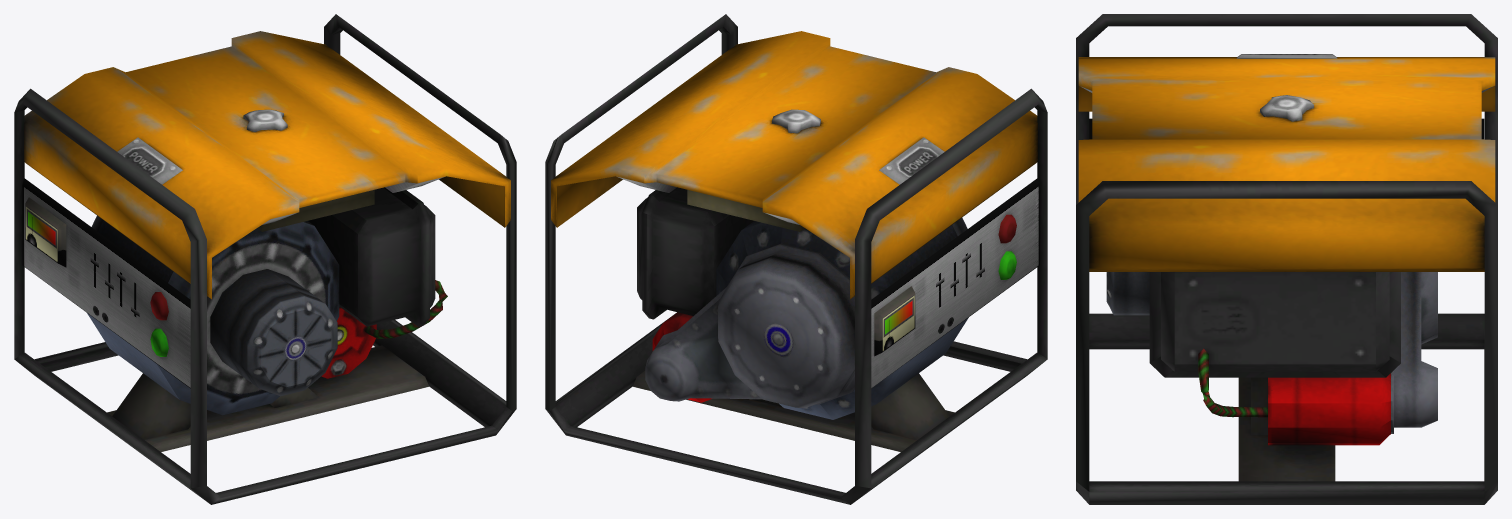
File: portable_pg.glb
3 views of the same model, side by side, from view 1: azimuth 30°, elevation 25°; view 2: azimuth 150°, elevation 25°; view 3: azimuth 270°, elevation 25° (orthographic). The views are drawn at different scales.
Visible parts, largest first — view 1: sm_pow_gen; view 2: sm_pow_gen; view 3: sm_pow_gen.
Boxes of the visible parts, x1,y1,x2,y2 form: sm_pow_gen: (14, 14, 516, 504); sm_pow_gen: (545, 14, 1047, 504); sm_pow_gen: (1076, 14, 1497, 504).
Size of the model in its own units: 86.06 by 74.18 by 86.06.
Materials: 1 (1 with a texture image).
